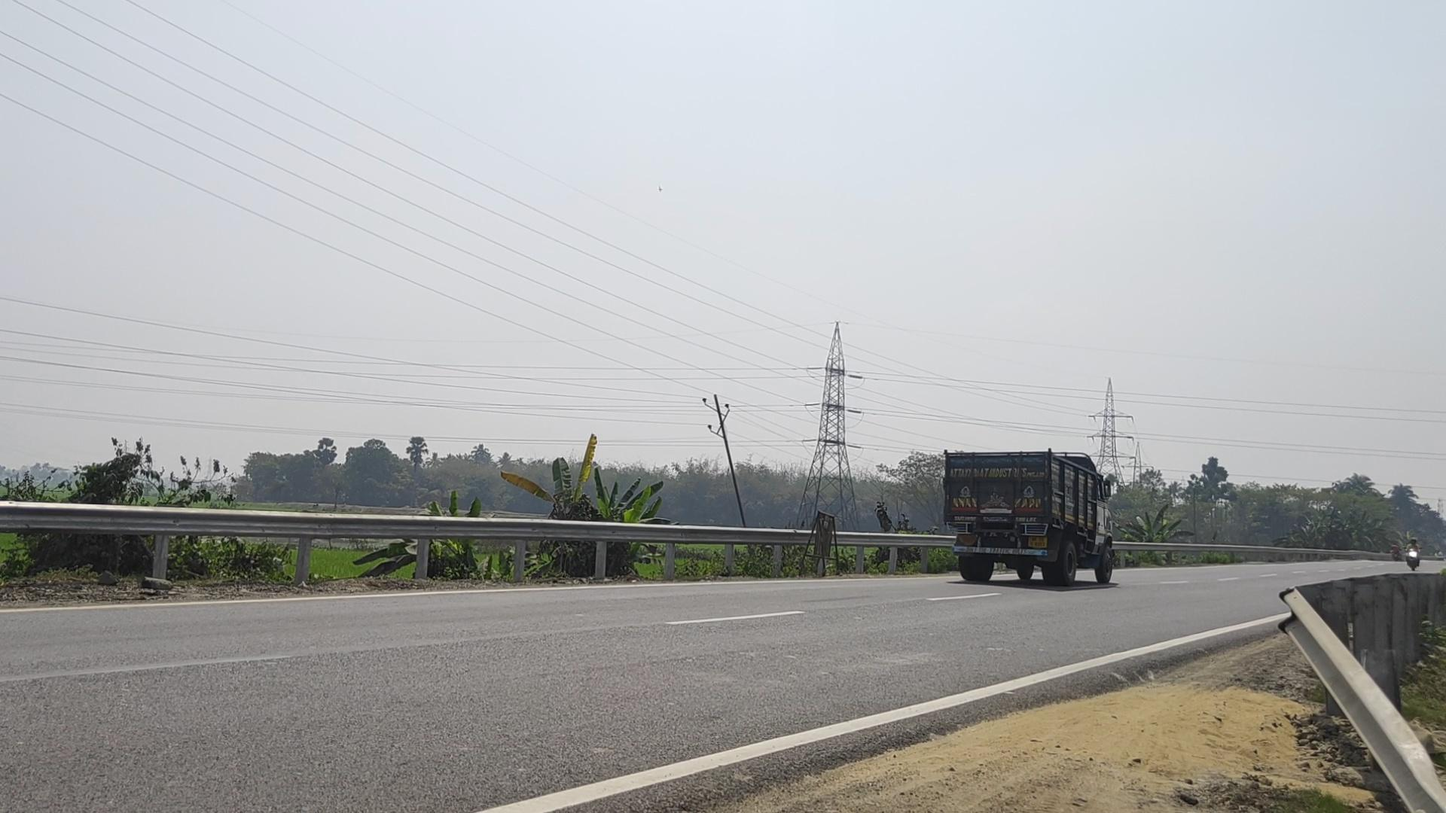bike: (1402, 537, 1424, 571)
truck: (943, 447, 1117, 588)
